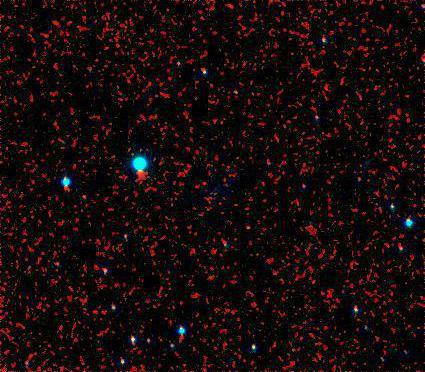star: (231, 211, 261, 241)
